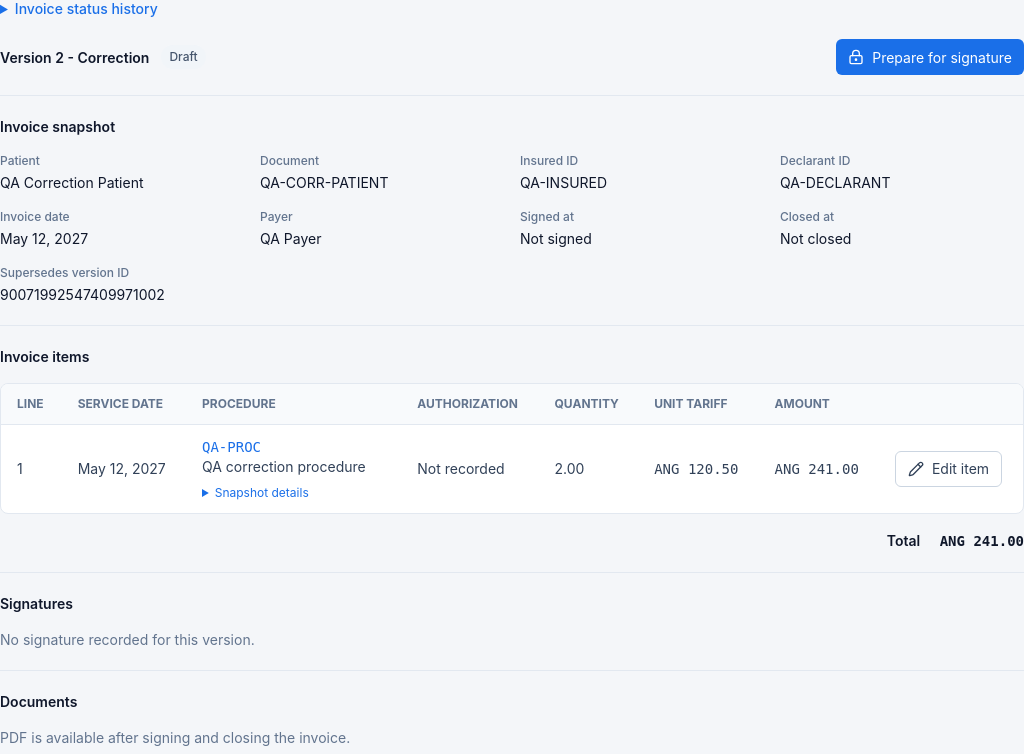
F07 correction workflow UI › edits only a draft replacement item and preserves decimal strings
The width and height of the screenshot is (1024, 754).
(page scrolled)
Click the button "Edit item".
click(948, 469)  # box [895,451,1002,487]
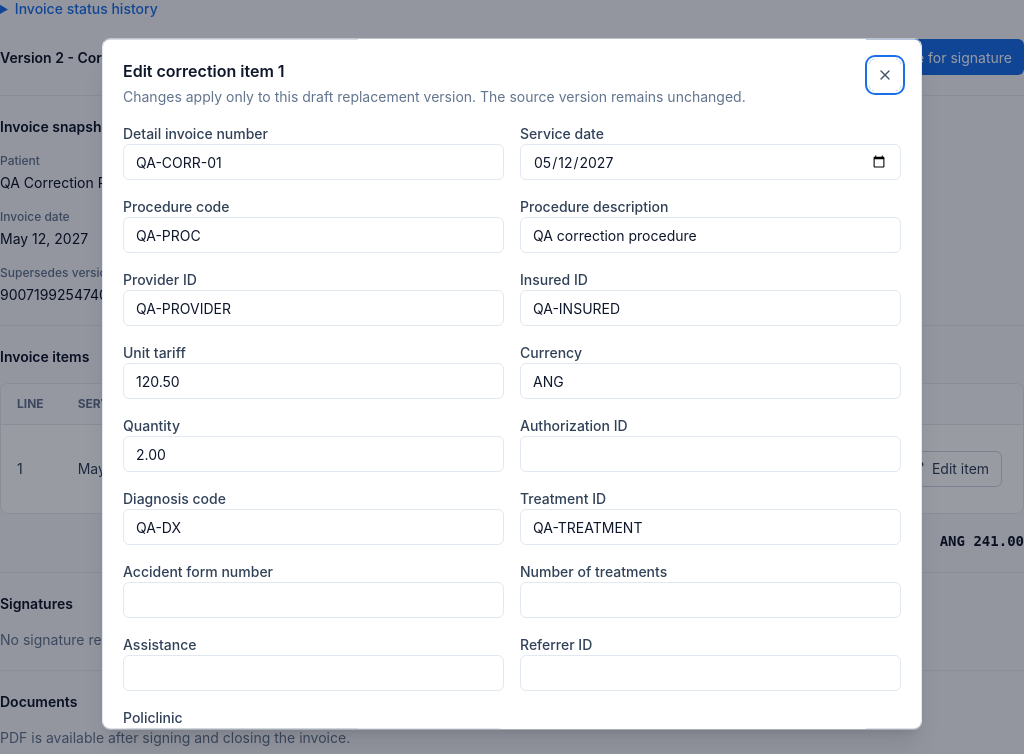
Replace the text in the field labelled "Unit tariff" with "125.00" at (314, 381), box [123,363,504,399]
(page scrolled)
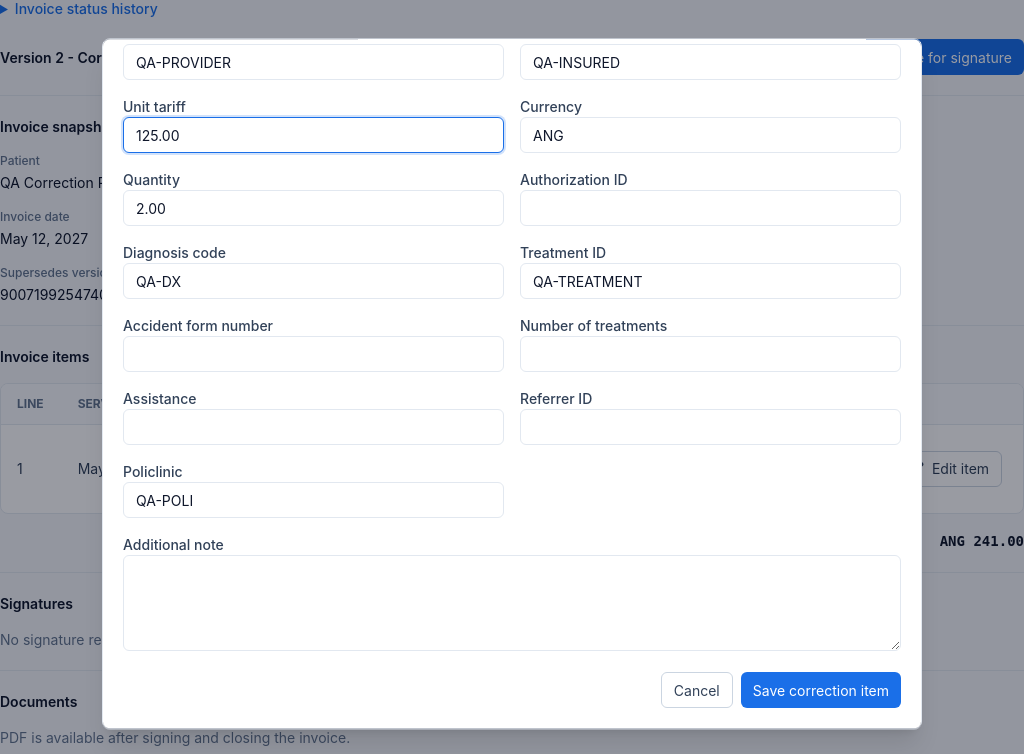
Type "Controlled F07 change" into the text box labelled "Additional note".
click(512, 603); type("Controlled F07 change")  # box [123,555,901,651]
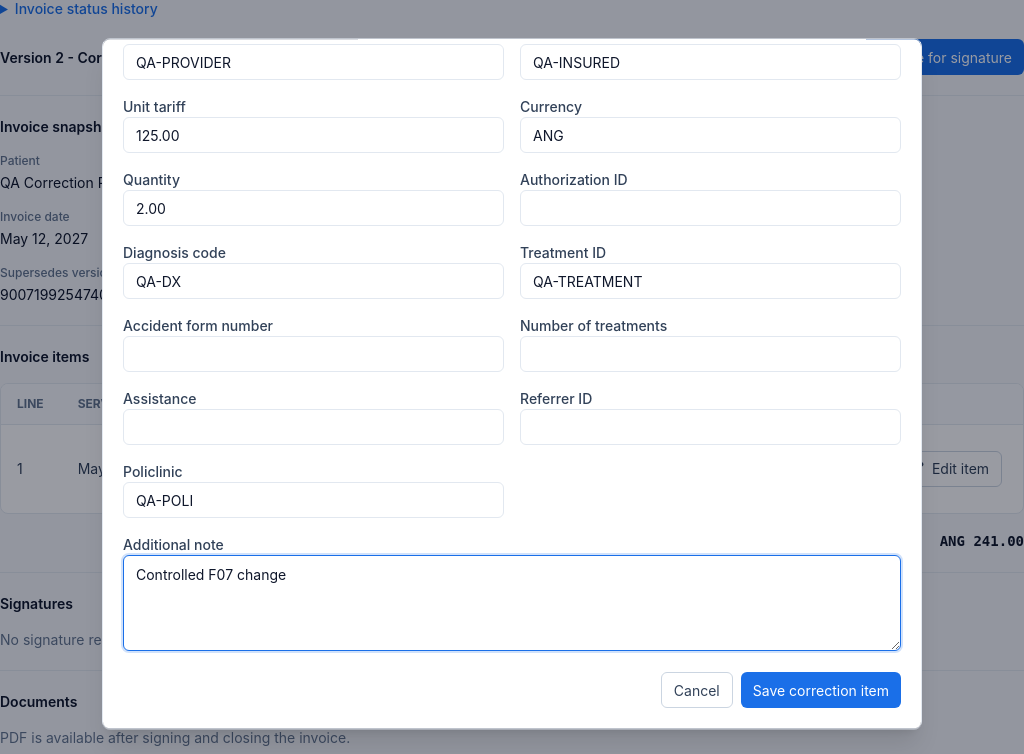
Click the button "Save correction item".
click(821, 690)  # box [741,672,901,708]
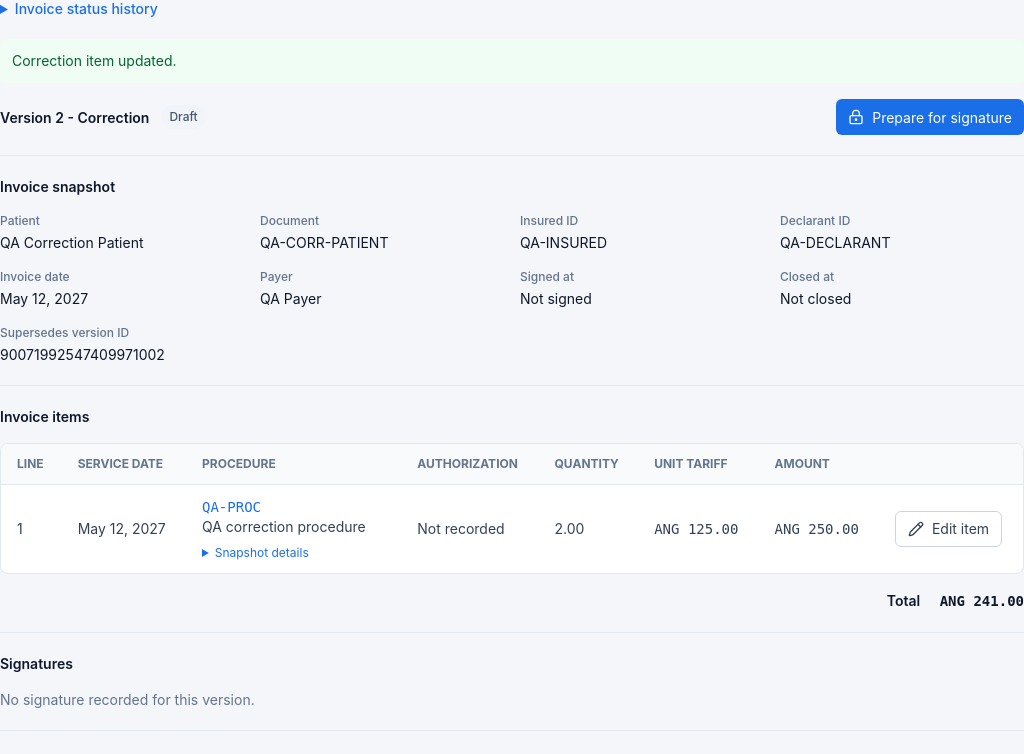
Expected: the text "Correction item updated." is shown, [0,39,1023,83]
